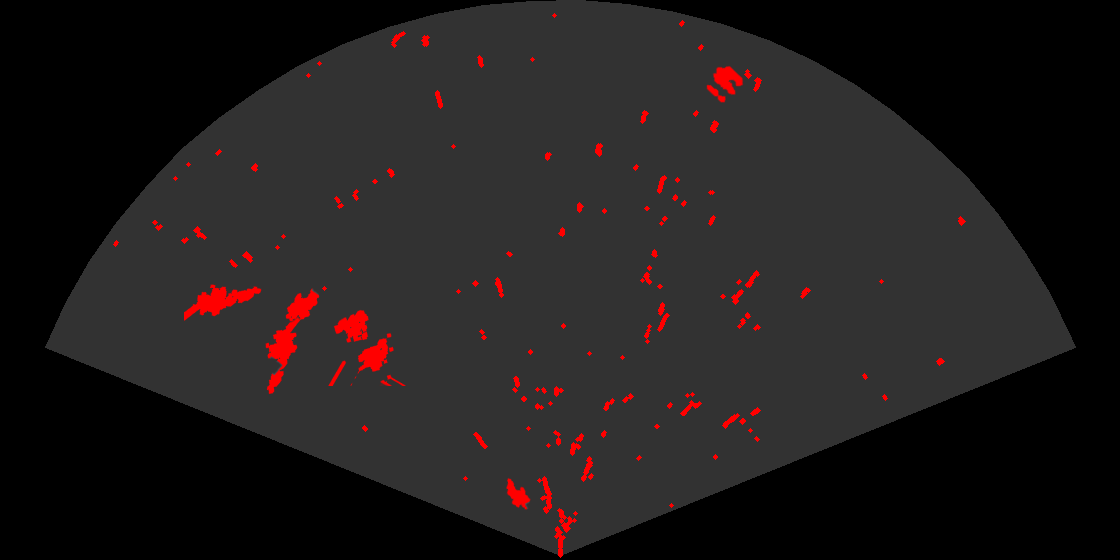AUV: (284, 287, 321, 323), (505, 476, 532, 511)
ball: (705, 64, 745, 104)
cage: (327, 308, 407, 386)
frogman: (264, 316, 305, 396), (184, 283, 263, 322)
